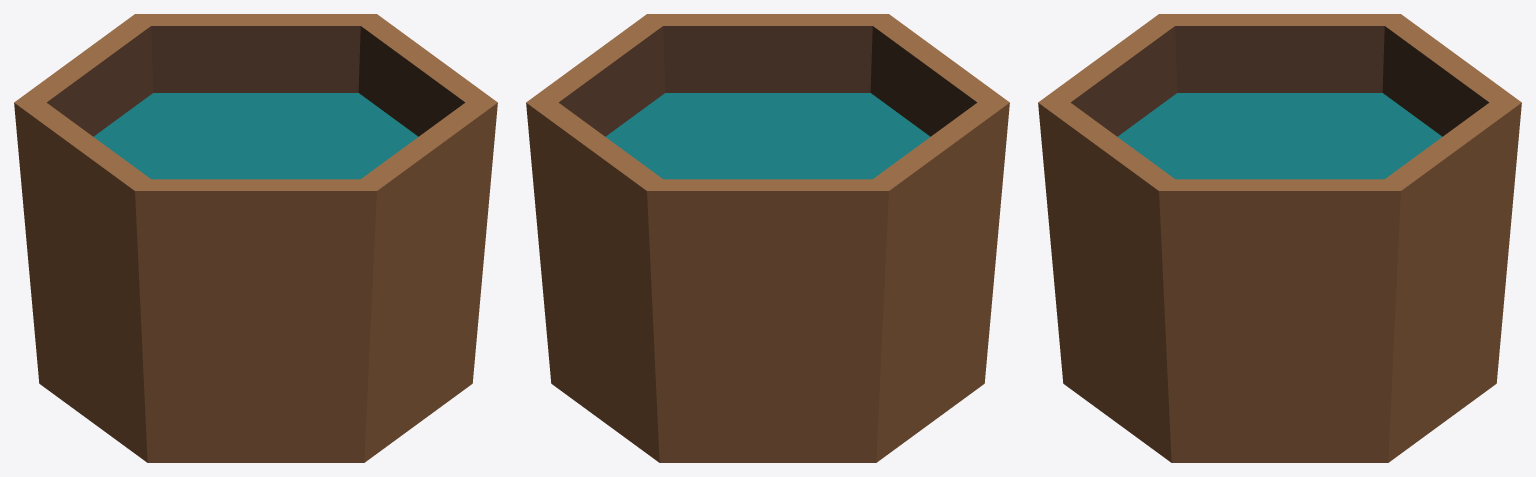
File: TB_D_Prop_Bucket_Water_B.FBX
3 renders of one model, left to right at view 1: azimuth 30°, elevation 25°; view 2: azimuth 150°, elevation 25°; view 3: azimuth 270°, elevation 25°, orthographic.
Parts seen in each view (by area): view 1: TB_D_Prop_Bucket_Water_B; view 2: TB_D_Prop_Bucket_Water_B; view 3: TB_D_Prop_Bucket_Water_B.
Boxes of the visible parts, bbox=[...] form: TB_D_Prop_Bucket_Water_B: bbox=[14, 14, 497, 462]; TB_D_Prop_Bucket_Water_B: bbox=[526, 14, 1009, 462]; TB_D_Prop_Bucket_Water_B: bbox=[1038, 14, 1521, 462].
Bounding box in the file's own units: 0.4708 × 0.3485 × 0.5436.
